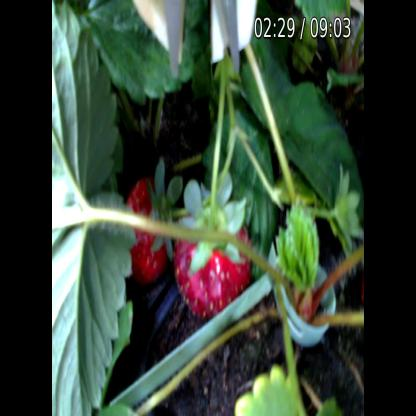ripe: (174, 211, 252, 320), (111, 164, 179, 279)
